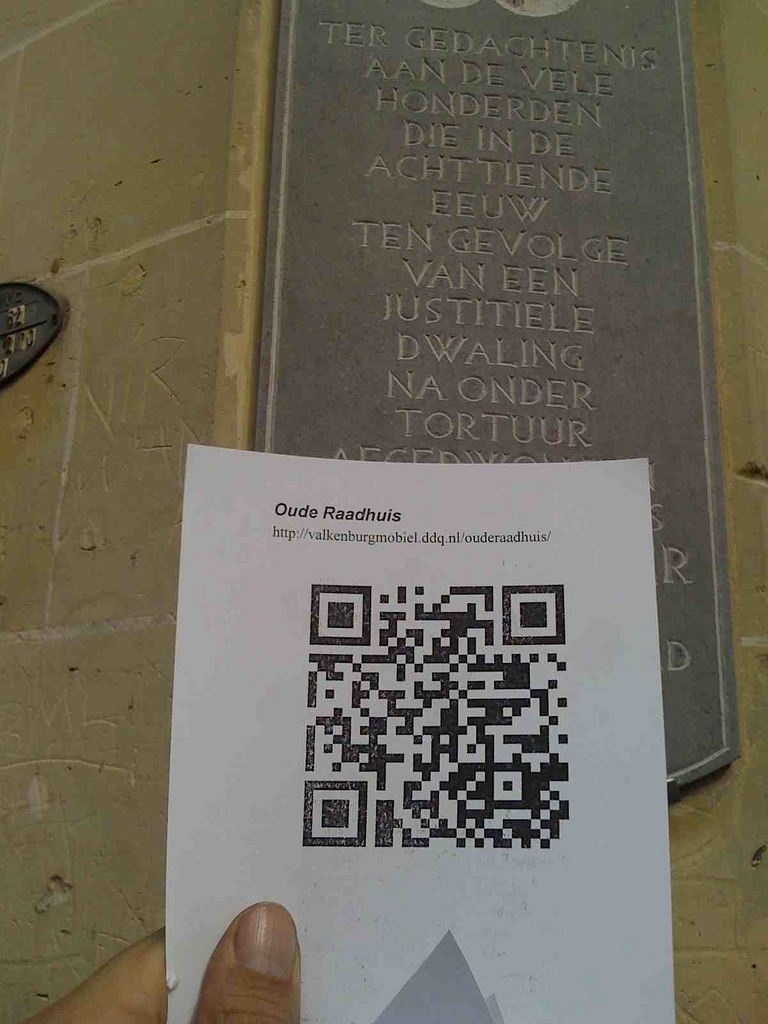QR-CODE: (303, 584, 568, 849)
